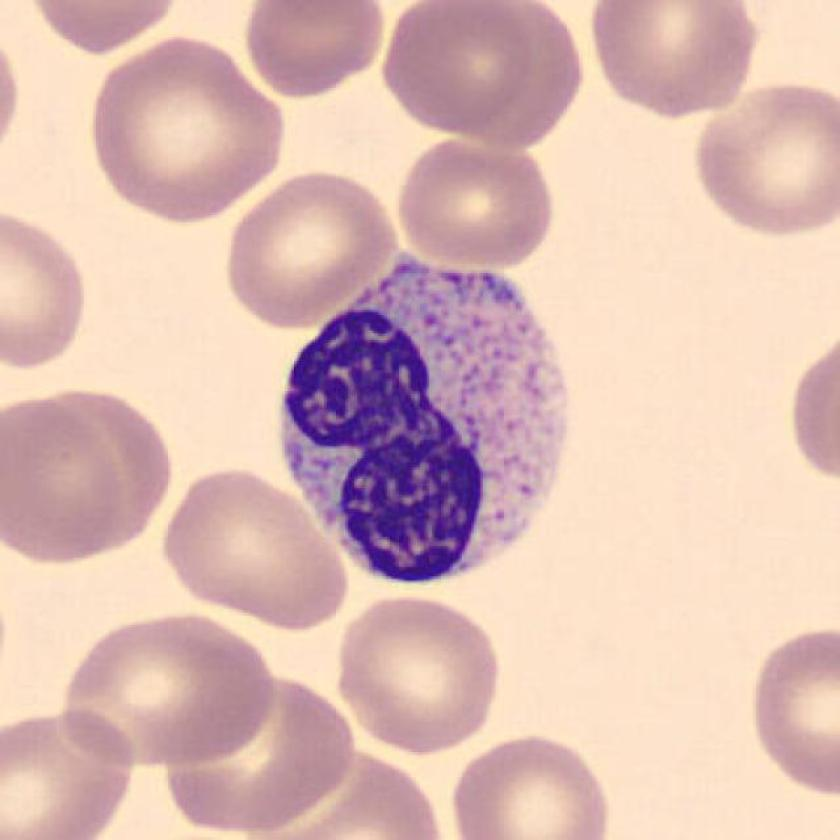neutrophil: (289, 260, 566, 573)
